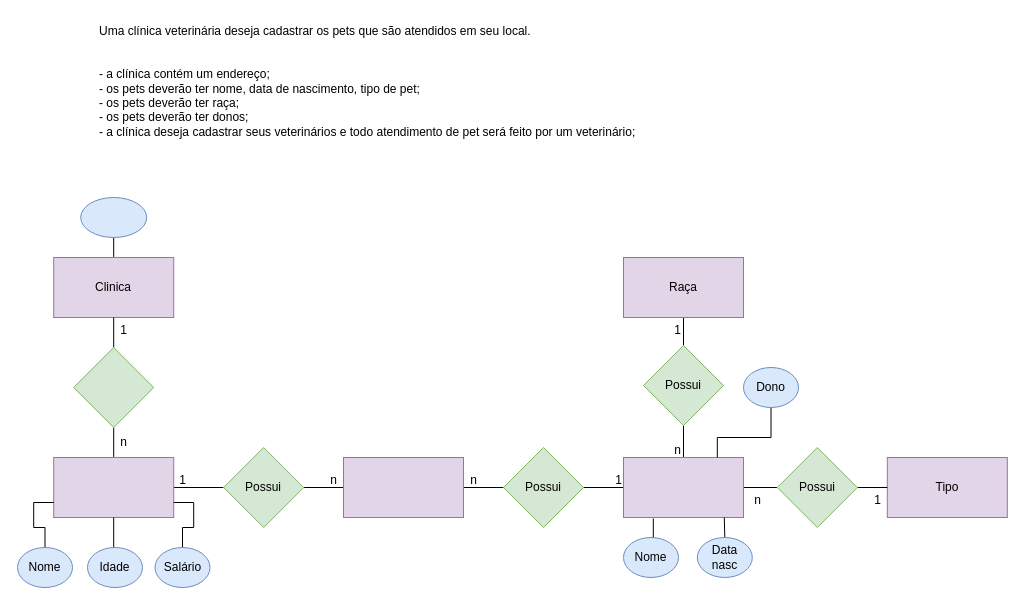
Image size: 1025x605. Some labels were removed from this diagram. The shapes that lost their labels are listed below. From the top down, each one's box as (x1, y1, x2, y2) in pixels, then its label:
(80, 196, 147, 238): Endereço
(73, 346, 154, 428): Cadastra
(53, 456, 174, 518): Veterinario
(342, 456, 464, 518): Atendimento
(622, 456, 744, 518): Pet
